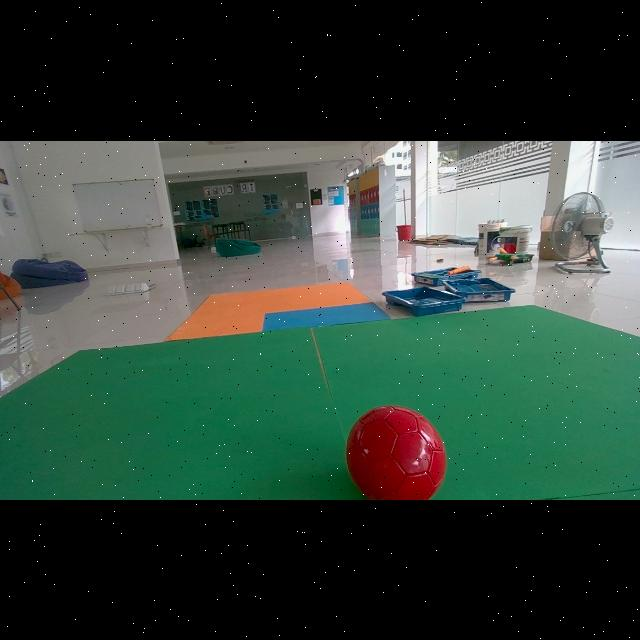R: (346, 405, 446, 500)
